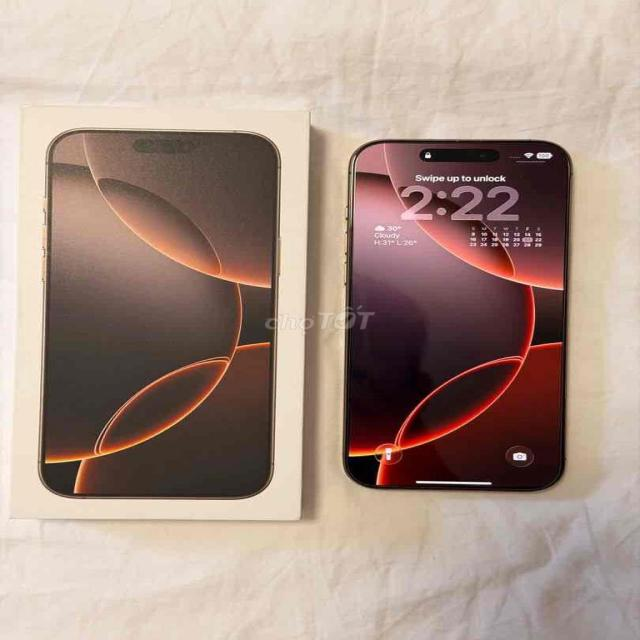gen_16: (336, 129, 578, 505)
